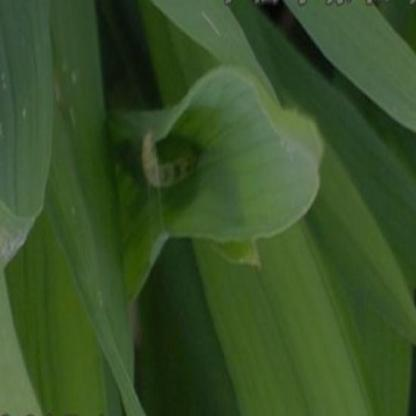leaf-folder: (134, 124, 228, 197)
